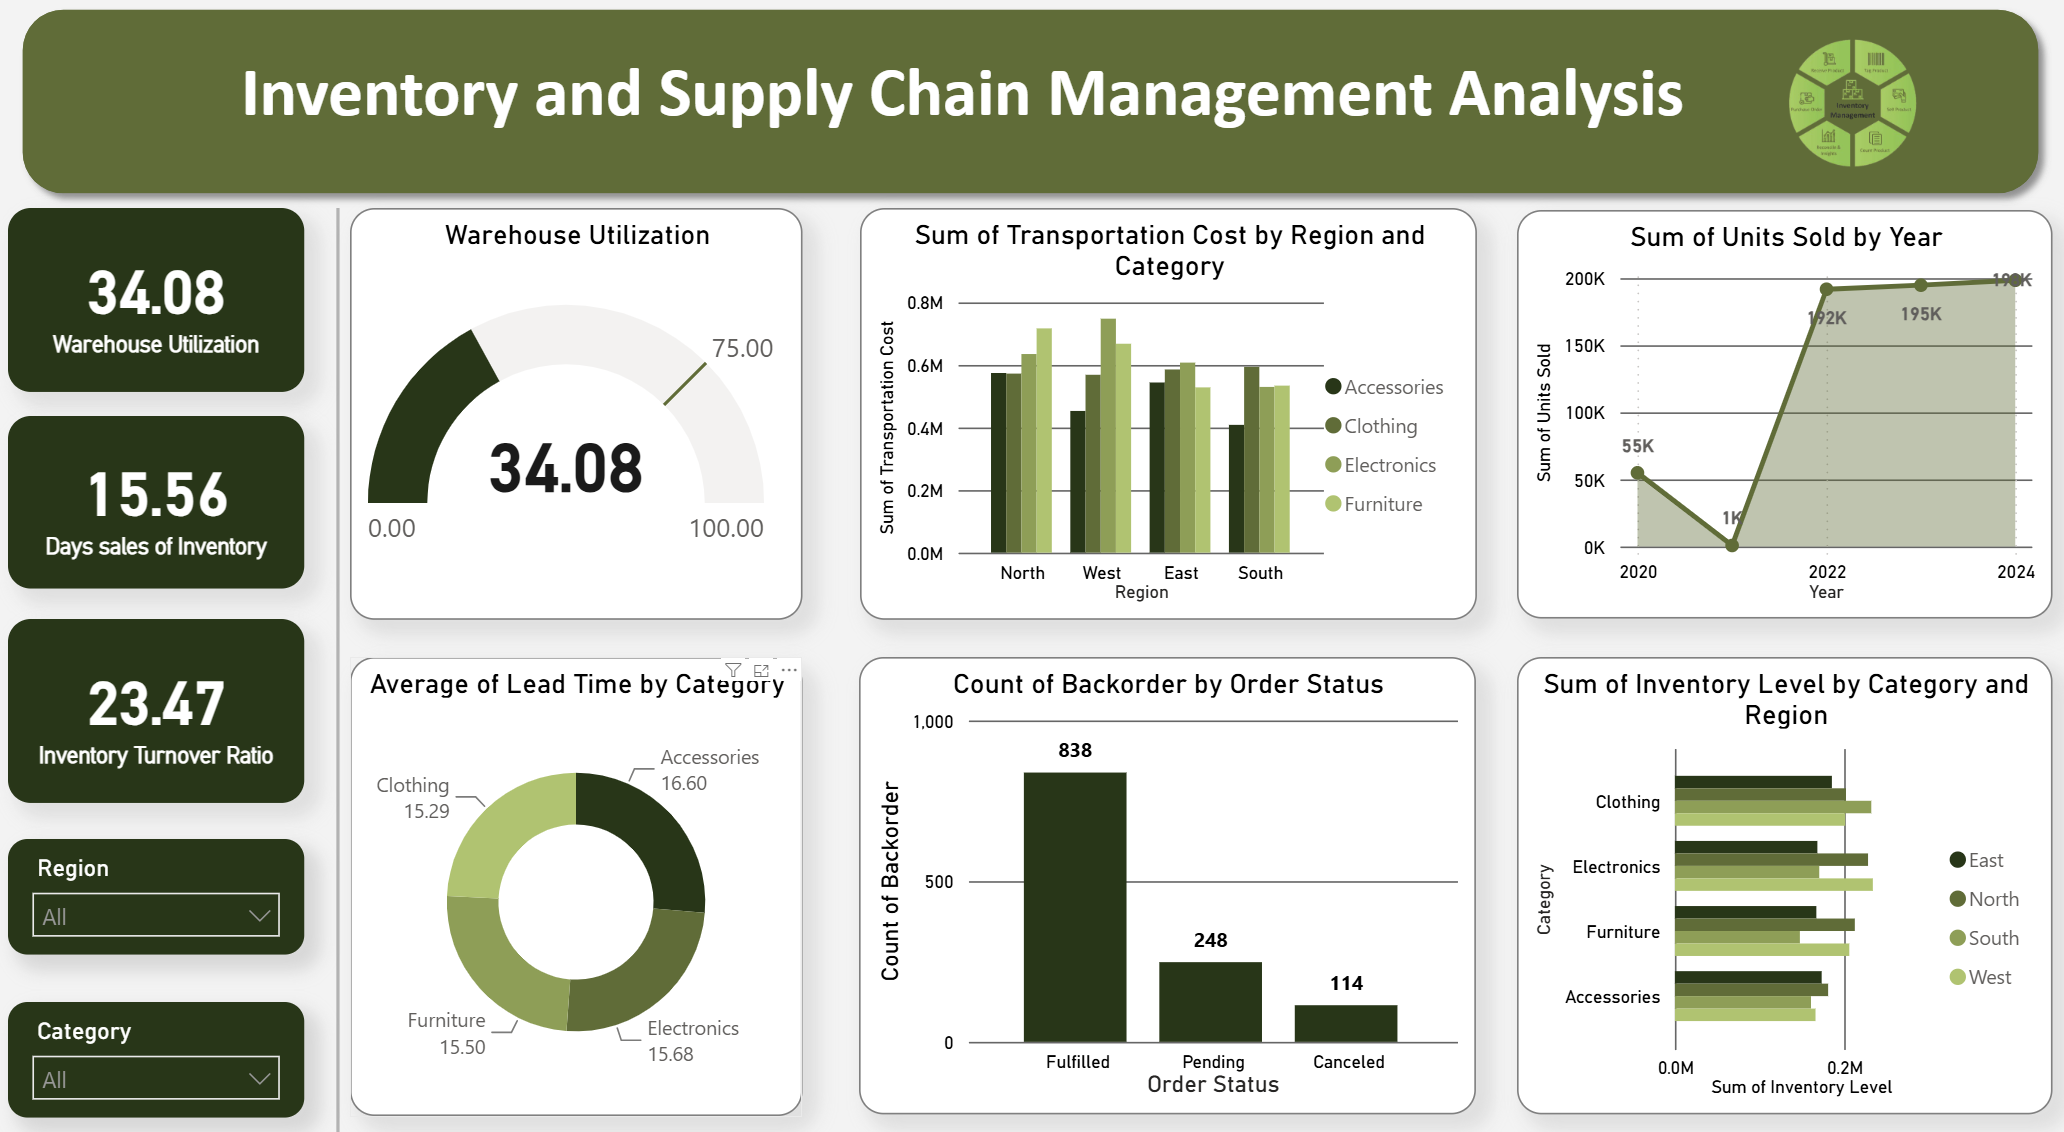

The dashboard page shown, as its layout file describes it:
{"tool":"powerbi","page":{"name":"Page 1","canvas":[1280,720],"ordinal":0},"visuals":[{"type":"shape","box":[11.8,10.3,1256.3,130.8],"z":0},{"type":"textbox","box":[133.7,38.2,928.7,74.9],"z":1000},{"type":"image","box":[1049.1,25,191,102.9],"z":2000},{"type":"shape","box":[207.2,141.1,14.7,578.9],"z":3000},{"type":"card","fields":{"Values":["Inventory and Supply Chain Dataset.Warehouse Utilization"]},"box":[11.8,141.1,182.2,113.1],"z":4000},{"type":"card","fields":{"Values":["Inventory and Supply Chain Dataset.Days sales of Inventory"]},"box":[11.8,268.9,182.2,105.8],"z":5000},{"type":"card","fields":{"Values":["Inventory and Supply Chain Dataset.Inventory Turnover Ratio"]},"box":[11.8,393.8,182.2,113.1],"z":6000},{"type":"slicer","fields":{"Values":["Inventory and Supply Chain Dataset.Region"]},"box":[11.8,529,182.2,70.5],"z":7000},{"type":"slicer","fields":{"Values":["Inventory and Supply Chain Dataset.Category"]},"box":[11.8,628.9,182.2,70.5],"z":8000},{"type":"gauge","fields":{"Y":["Inventory and Supply Chain Dataset.Warehouse Utilization"]},"box":[221.9,141.1,277.7,252.7],"z":9000},{"type":"clusteredColumnChart","fields":{"Y":["Sum(Inventory and Supply Chain Dataset.Transportation Cost)"],"Category":["Inventory and Supply Chain Dataset.Region"],"Series":["Inventory and Supply Chain Dataset.Category"]},"box":[534.9,141.1,379.1,252.7],"z":10000},{"type":"lineChart","fields":{"Y":["Sum(Inventory and Supply Chain Dataset.Units Sold)"],"Category":["Inventory and Supply Chain Dataset.Date.Variation.Date Hierarchy.Year"]},"box":[938.9,142.5,329.1,251.3],"z":11000},{"type":"donutChart","fields":{"Y":["Avg(Inventory and Supply Chain Dataset.Lead Time)"],"Category":["Inventory and Supply Chain Dataset.Category"]},"box":[221.9,417.3,277.7,282.1],"z":12000},{"type":"columnChart","fields":{"Y":["CountNonNull(Inventory and Supply Chain Dataset.Backorder)"],"Category":["Inventory and Supply Chain Dataset.Order Status"]},"box":[534.3,417.1,378.6,281.4],"z":13000},{"type":"clusteredBarChart","fields":{"Y":["Sum(Inventory and Supply Chain Dataset.Inventory Level)"],"Category":["Inventory and Supply Chain Dataset.Category"],"Series":["Inventory and Supply Chain Dataset.Region"]},"box":[939,417,329,281],"z":14000}]}

Visuals, with their boxes in screenshot pixels (x1, y1, x2, y2), scaled from the page's 1280x720 canvas onto the 2064x1132 screenshot:
shape: select_region(19, 16, 2045, 222)
textbox: select_region(216, 60, 1713, 178)
image: select_region(1692, 39, 2000, 201)
shape: select_region(334, 222, 358, 1131)
card - Inventory and Supply Chain Dataset.Warehouse Utilization: select_region(19, 222, 313, 400)
card - Inventory and Supply Chain Dataset.Days sales of Inventory: select_region(19, 423, 313, 589)
card - Inventory and Supply Chain Dataset.Inventory Turnover Ratio: select_region(19, 619, 313, 797)
slicer - Inventory and Supply Chain Dataset.Region: select_region(19, 832, 313, 943)
slicer - Inventory and Supply Chain Dataset.Category: select_region(19, 989, 313, 1100)
gauge - Inventory and Supply Chain Dataset.Warehouse Utilization: select_region(358, 222, 806, 619)
clusteredColumnChart - Sum(Inventory and Supply Chain Dataset.Transportation Cost) x Inventory and Supply Chain Dataset.Region: select_region(863, 222, 1474, 619)
lineChart - Sum(Inventory and Supply Chain Dataset.Units Sold) x Inventory and Supply Chain Dataset.Date.Variation.Date Hierarchy.Year: select_region(1514, 224, 2045, 619)
donutChart - Avg(Inventory and Supply Chain Dataset.Lead Time) x Inventory and Supply Chain Dataset.Category: select_region(358, 656, 806, 1100)
columnChart - CountNonNull(Inventory and Supply Chain Dataset.Backorder) x Inventory and Supply Chain Dataset.Order Status: select_region(862, 656, 1472, 1098)
clusteredBarChart - Sum(Inventory and Supply Chain Dataset.Inventory Level) x Inventory and Supply Chain Dataset.Category: select_region(1514, 656, 2045, 1097)
